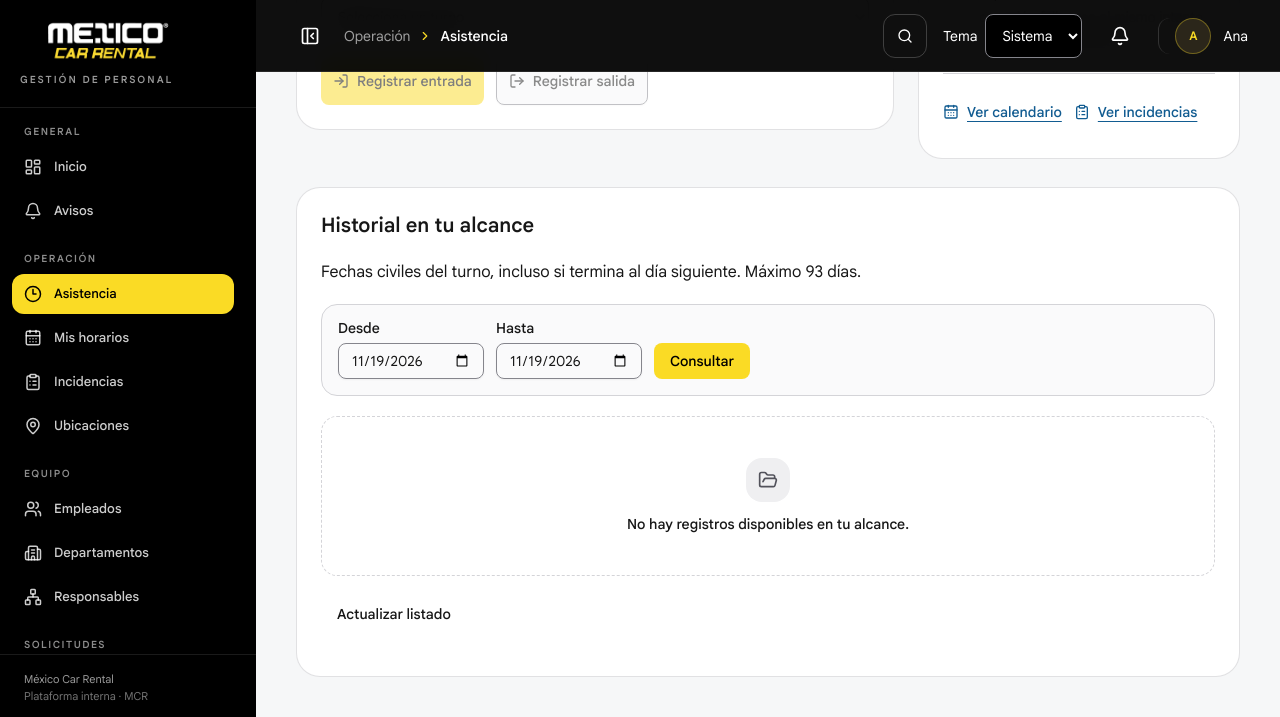
Test: rejects civil report ranges over 93 days without querying that range
The image size is (1280, 717).
(page scrolled)
Type "2026-01-01" into the date field labelled "Desde" at x=411, y=360, box [338,342,484,378]
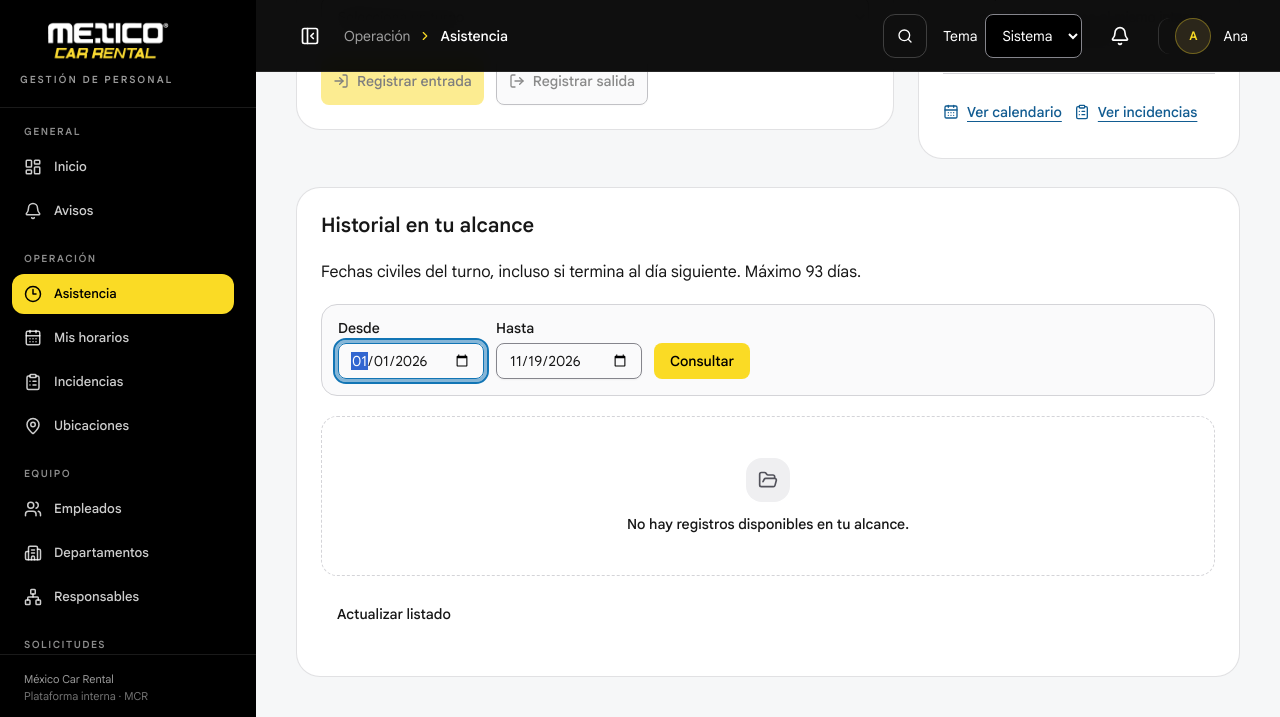
Type "2026-12-31" into the date field labelled "Hasta" at x=569, y=360, box [496,342,642,378]
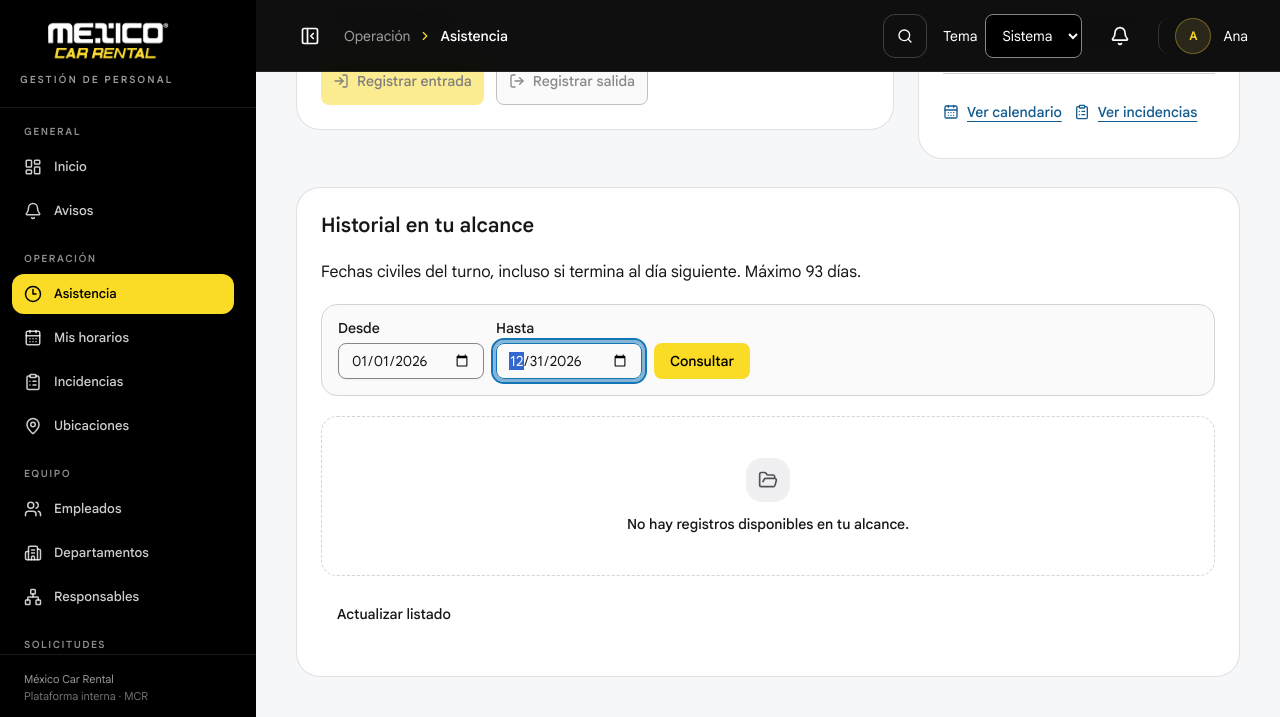
Click the button "Consultar" at x=702, y=360, box [654,342,750,378]
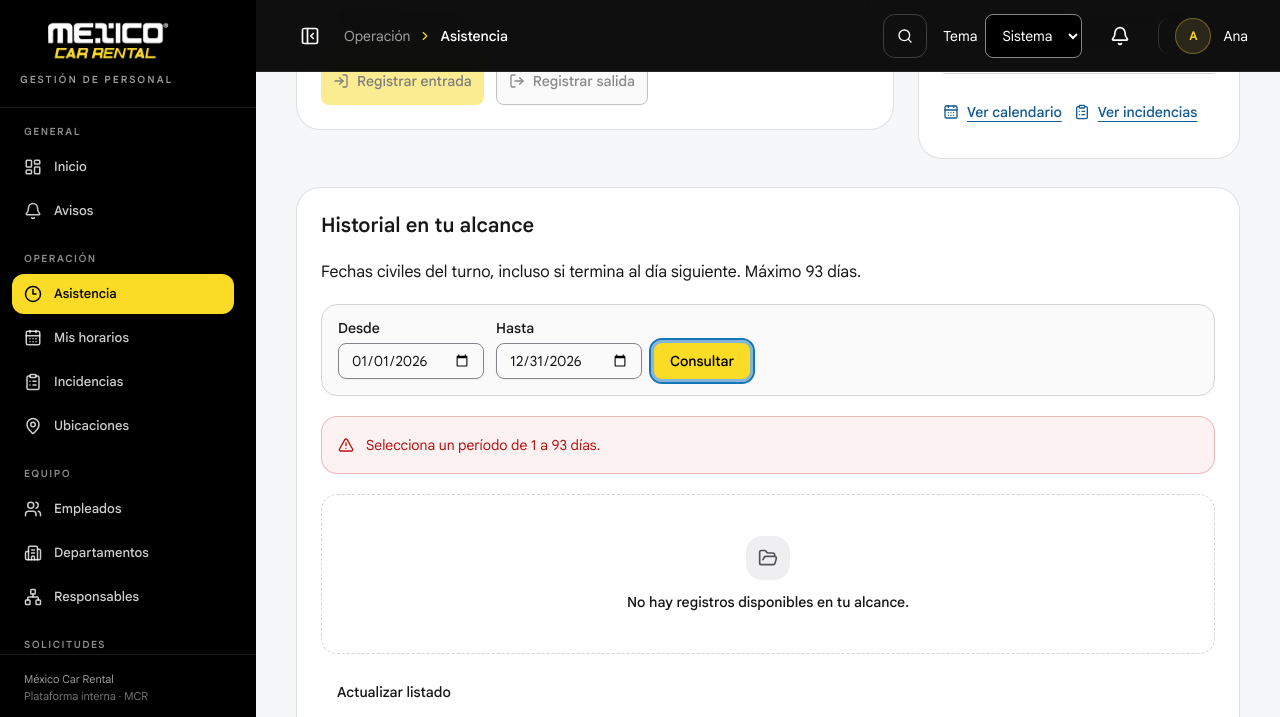
Now the text "Selecciona un período de 1 a 93 días." is shown, box [366,432,600,456]
